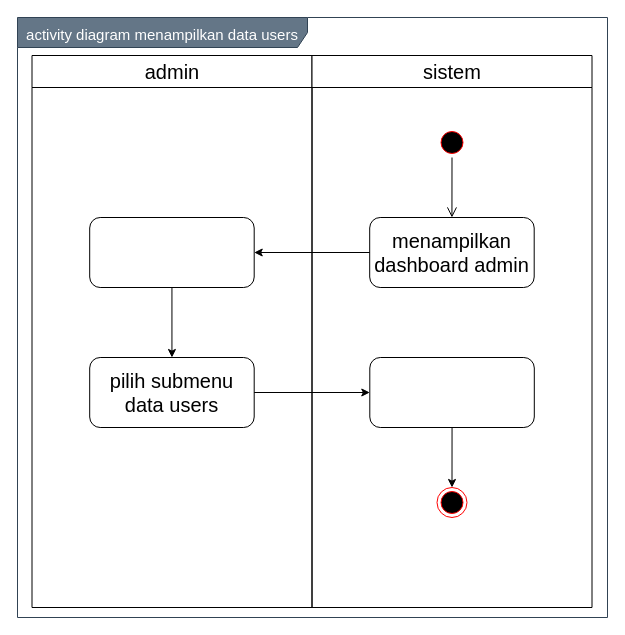
Some shapes in this 625 by 635 pixel diagram are drawn without their labels. Here are the shapes that lost their labels. From the top down, the box of each, then its label:
(89, 216, 254, 288): pilih menu data master
(369, 356, 534, 428): menampilkan data users
